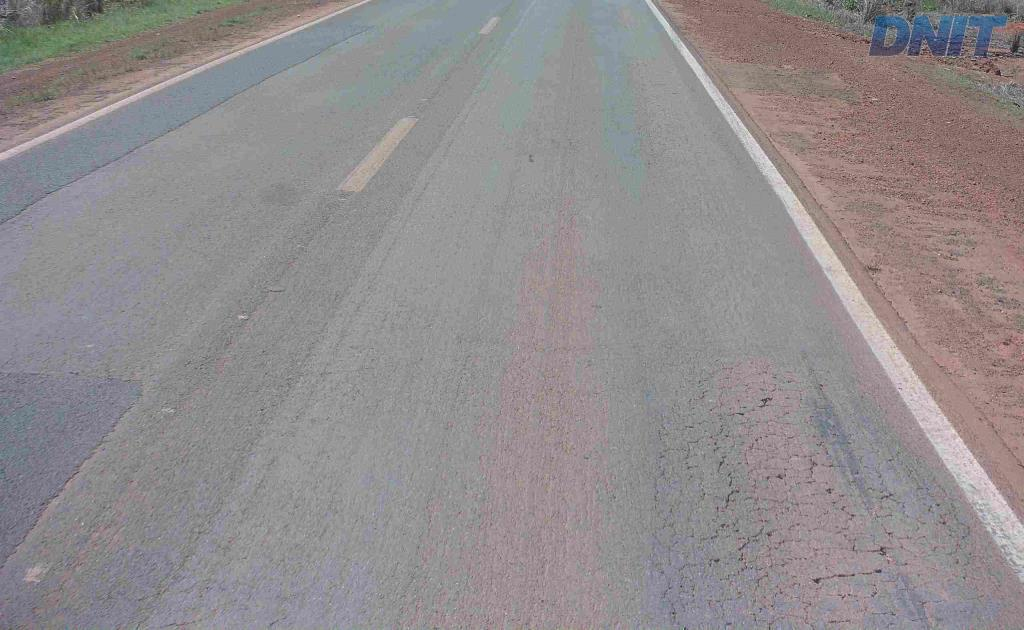crack: (719, 525, 778, 586), (711, 451, 744, 522), (828, 449, 875, 497), (935, 498, 968, 558), (809, 399, 843, 440)
